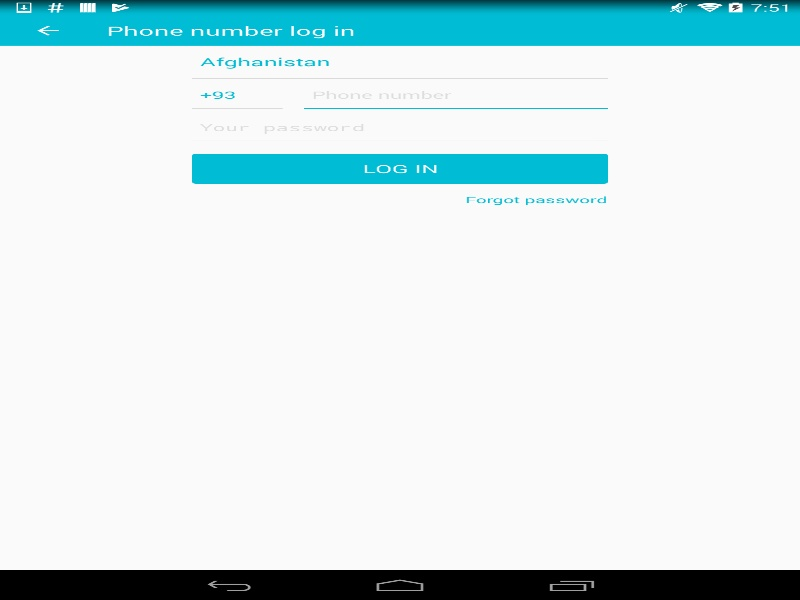Button: (192, 153, 608, 183), (10, 15, 85, 45)
Input: (186, 111, 613, 143), (298, 78, 613, 111), (186, 78, 288, 111)
